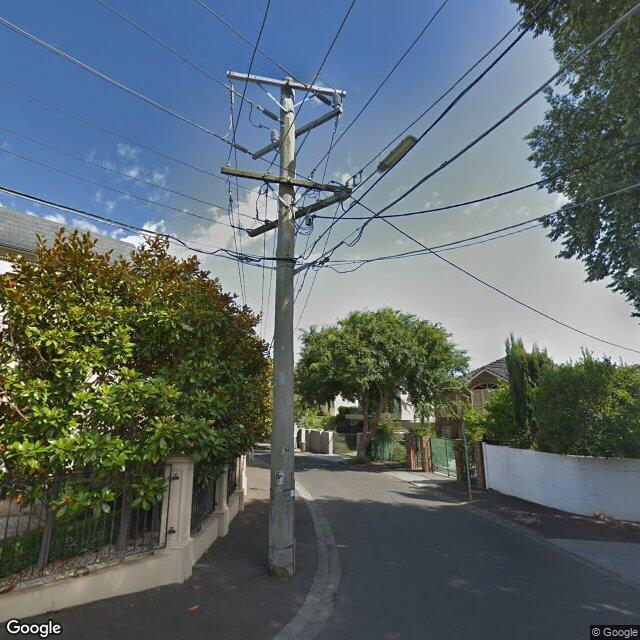HV-transmission: (252, 92, 345, 160)
crossarm: (229, 190, 353, 240), (251, 108, 344, 160), (222, 161, 364, 193), (225, 70, 347, 98)
streetlight: (352, 135, 418, 194)
timber-pole: (266, 77, 296, 581)
